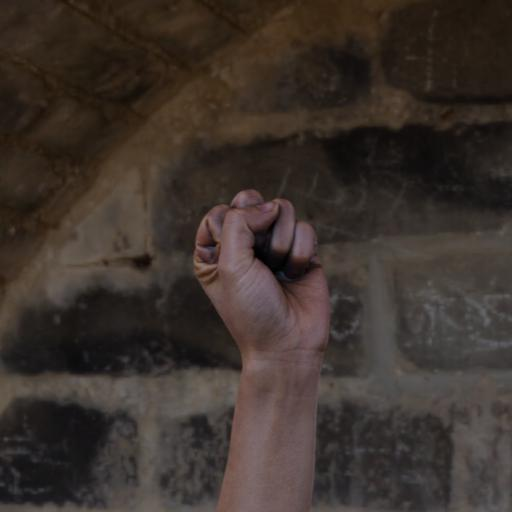S: (177, 170, 348, 373)
